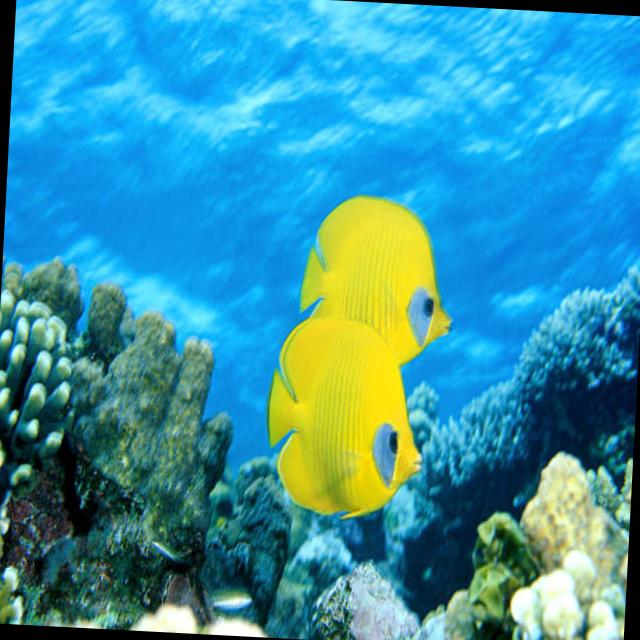ButterflyFish: (265, 326, 426, 525), (299, 193, 456, 338)
